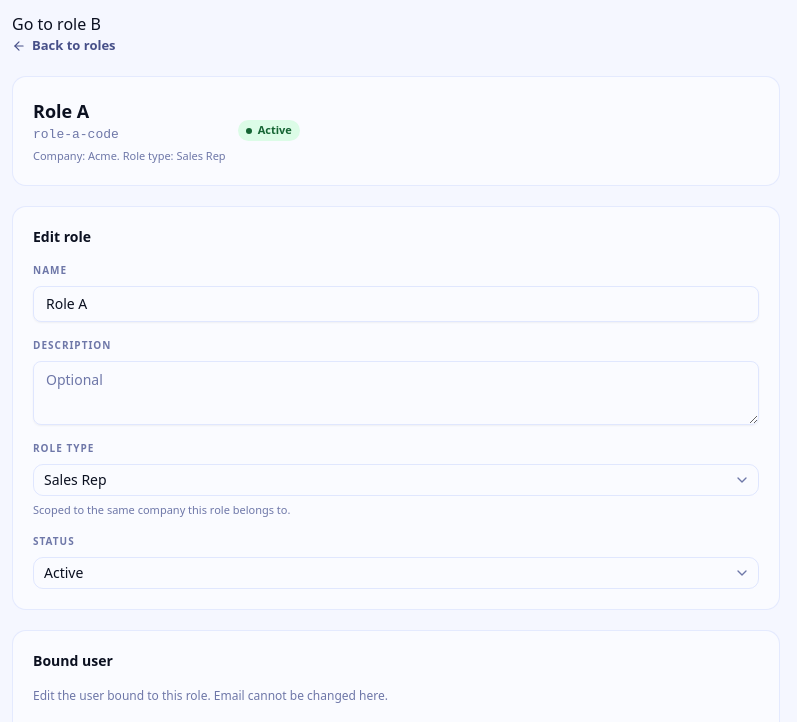
it: RoleDetailPage › switching from one role URL to another discards unsaved edits and shows the new role fresh
This screenshot has width=797, height=722.
Replace the text in the field labelled "Name" with "Unsaved edit for A" at (396, 304), box top-left (33, 286), bottom-right (759, 322)
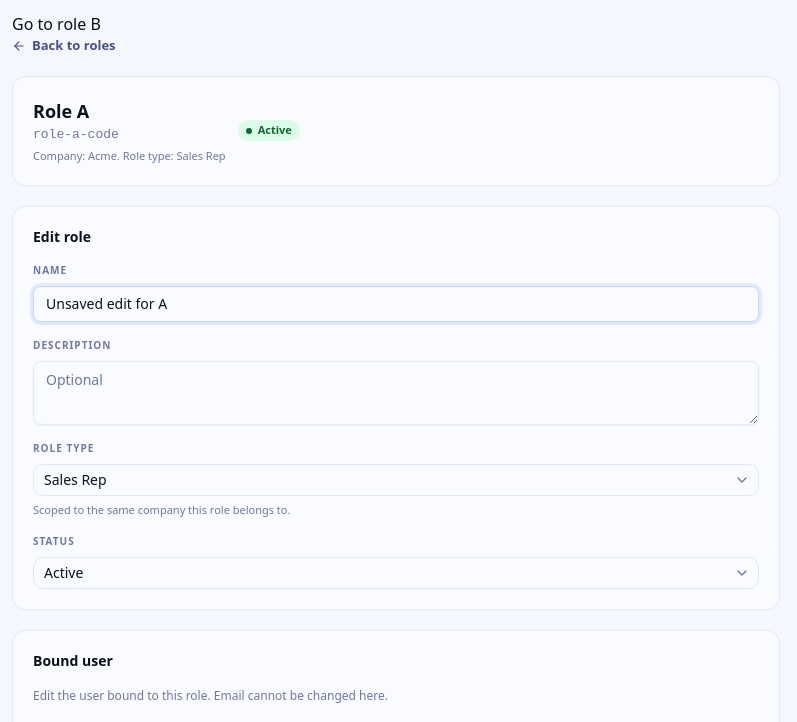
Click the link "Go to role B" at (56, 24), box top-left (12, 13), bottom-right (101, 35)
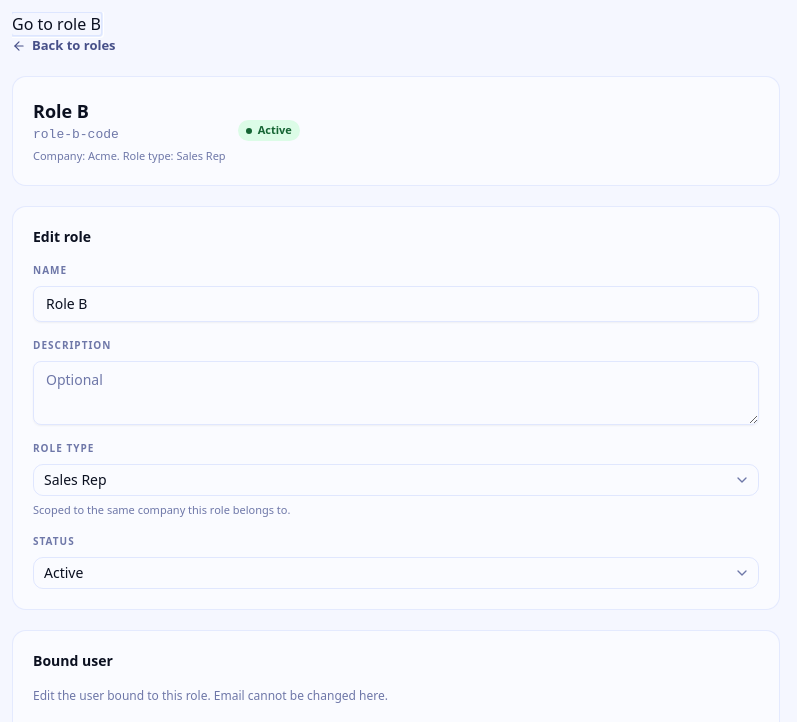
Result: the field labelled "Name" holds "Role B" at top-left (33, 286), bottom-right (759, 322)
Result: the field labelled "Name" does not hold "Unsaved edit for A" at top-left (33, 286), bottom-right (759, 322)
Result: the field labelled "Name" does not hold "Role A" at top-left (33, 286), bottom-right (759, 322)
